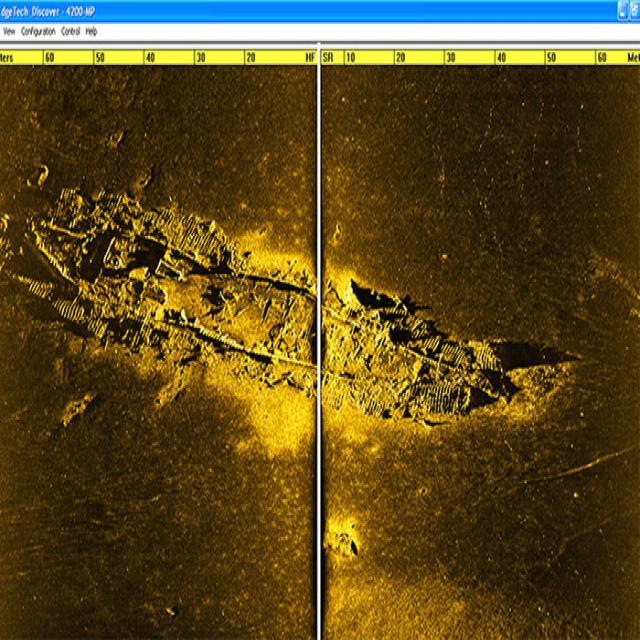shipwreck: (18, 176, 578, 432)
